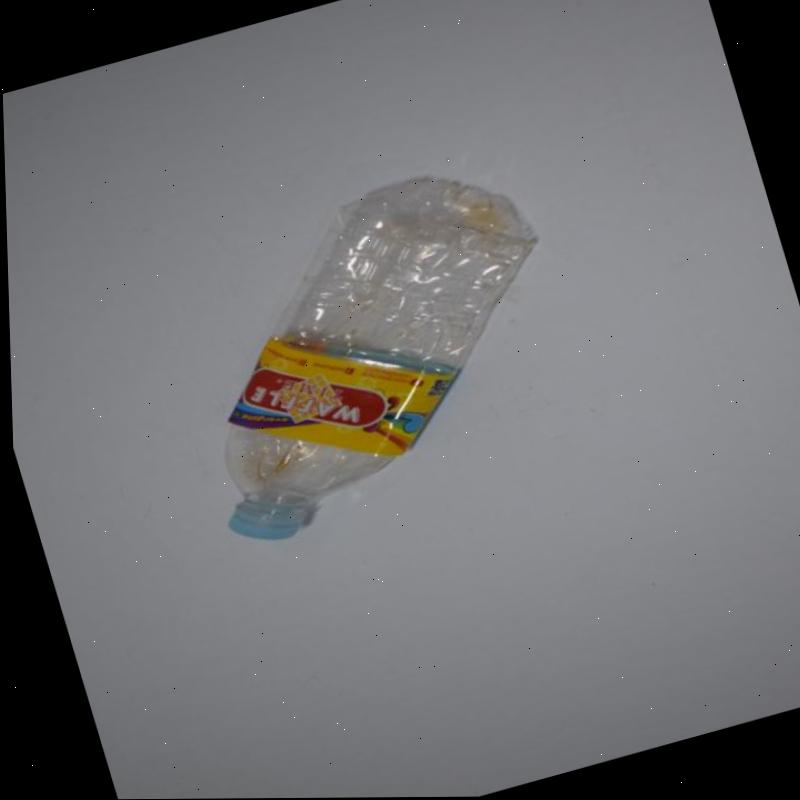botella: (142, 148, 604, 553)
